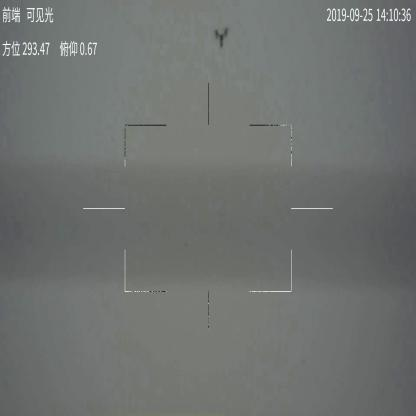uav: (214, 22, 230, 48)
